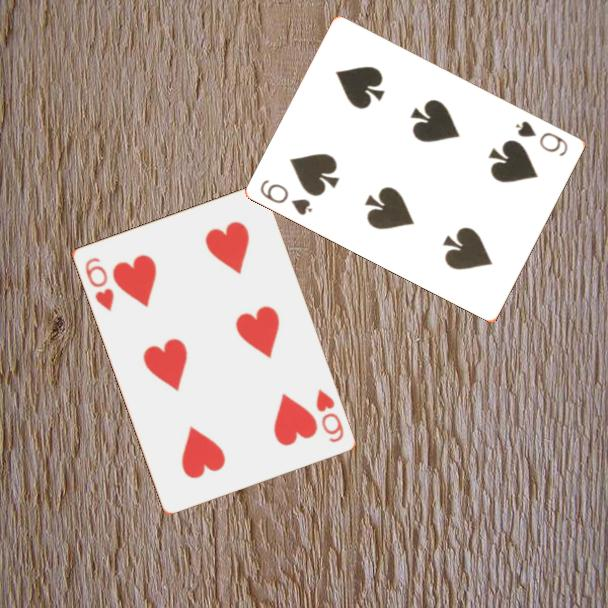h06: (81, 253, 117, 314), (312, 385, 346, 445)
s06: (512, 117, 571, 159), (257, 176, 316, 218)
